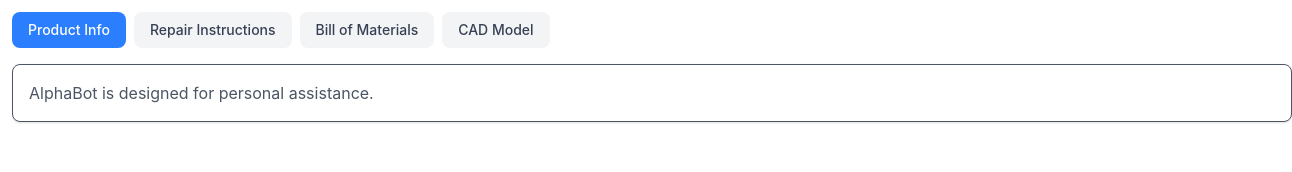
Test: Tabs Component › displays CAD Model link when the corresponding tab is clicked
# Click on the CAD Model tab
Click the button "CAD Model" at (496, 30), box left=442, top=12, right=550, bottom=48
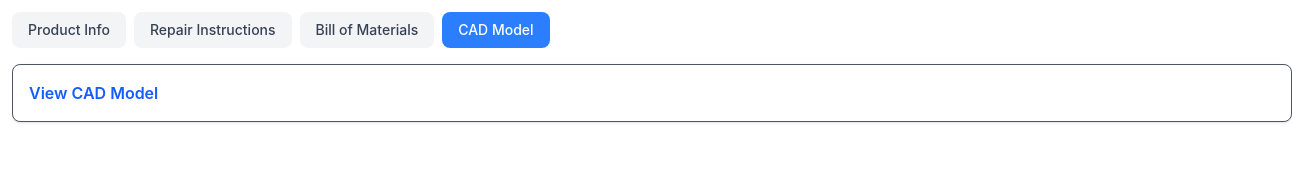
Result: the link "View CAD Model" is shown at left=29, top=83, right=158, bottom=103
